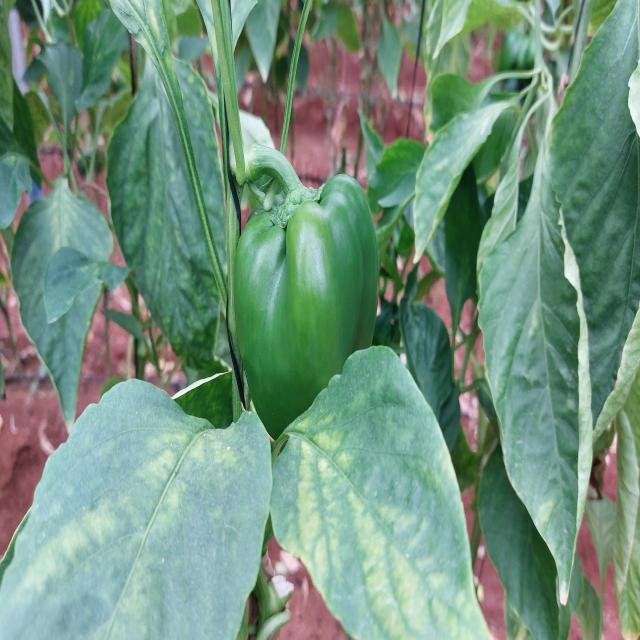Green--Not-ready-to-harvest: (225, 170, 377, 445)
